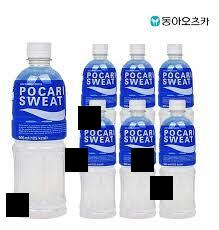pocarisweat: (6, 41, 71, 218), (156, 99, 200, 219), (118, 102, 154, 220), (80, 101, 115, 218)
